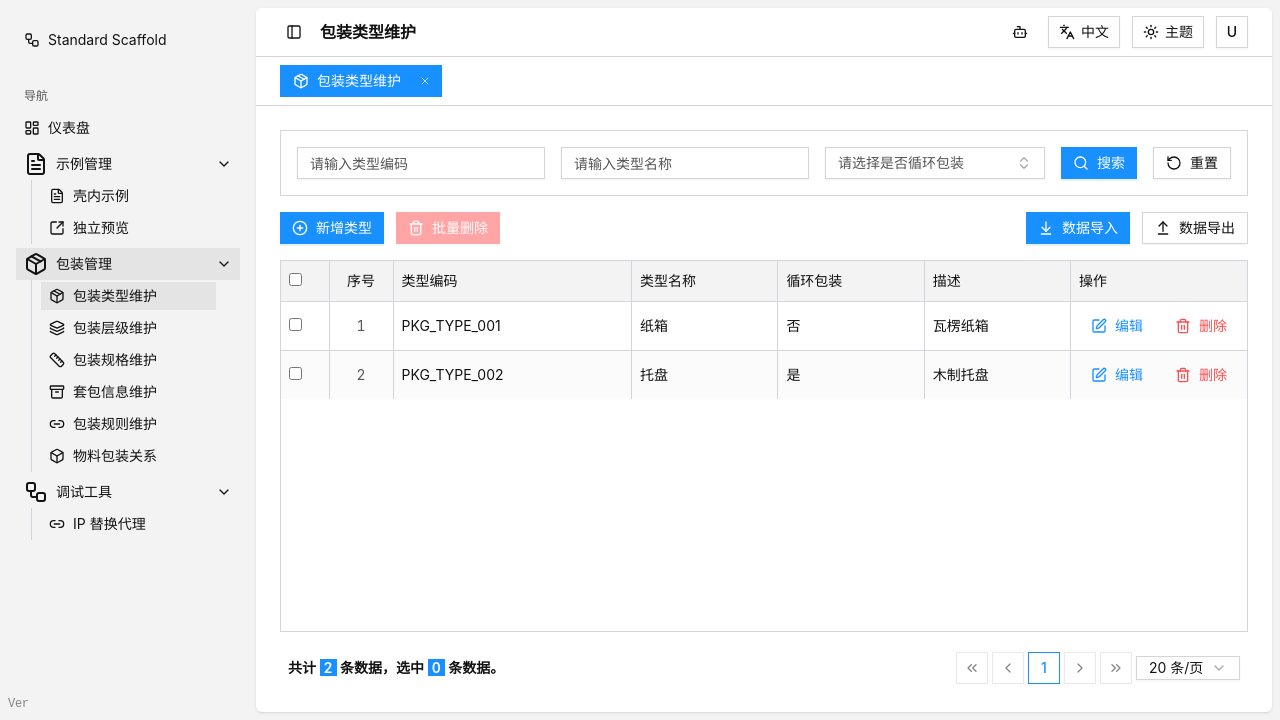
Test case: PackagingTypePage › deletes a packaging type and supports batch delete
Expected: the text "纸箱" is shown, [632, 301, 778, 350]
// Single delete: click delete button, confirm in AlertDialog
Click the button "删除" in the row of "PKG_TYPE_001" at (1201, 326), box [1163, 310, 1239, 342]
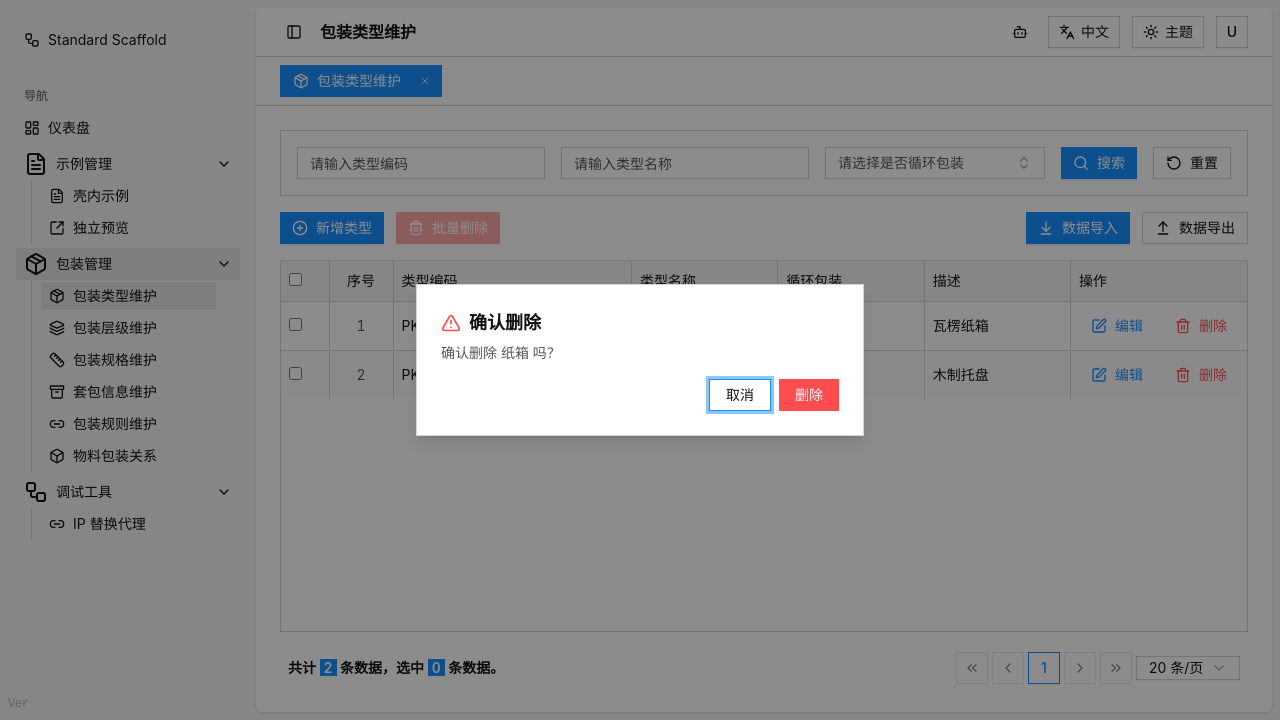
Click the button "删除" at (809, 395), box [779, 379, 839, 411]
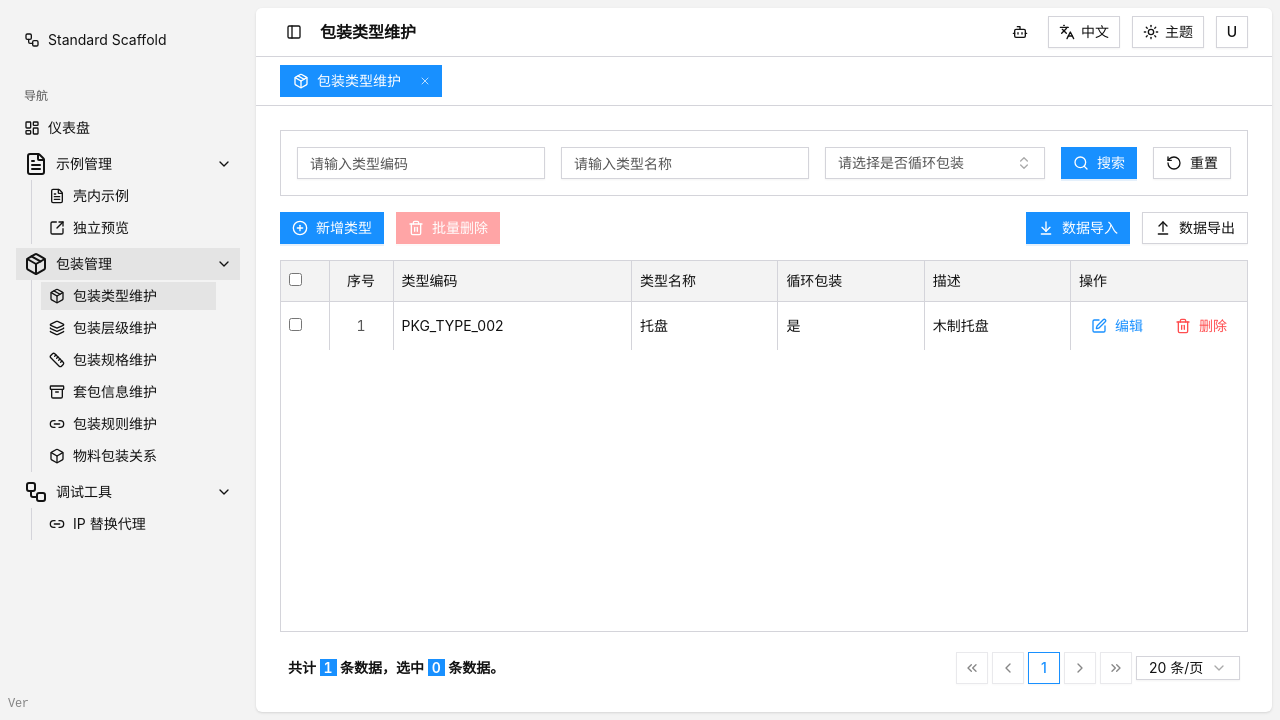
Expected: the text "托盘" is shown, [632, 301, 778, 350]
Expected: the text "纸箱" is gone
Click the checkbox named "选择 托盘" at (296, 324), box [289, 318, 302, 330]
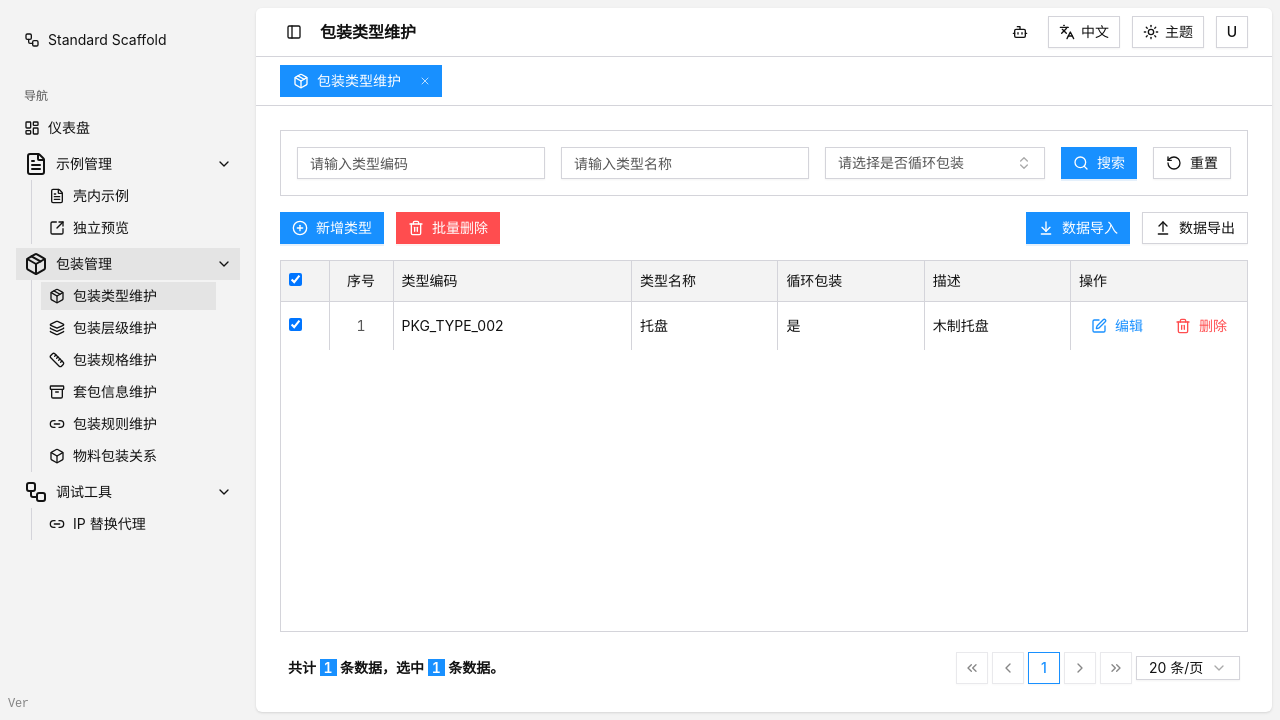
Click the button "批量删除" at (448, 228), box [396, 212, 500, 244]
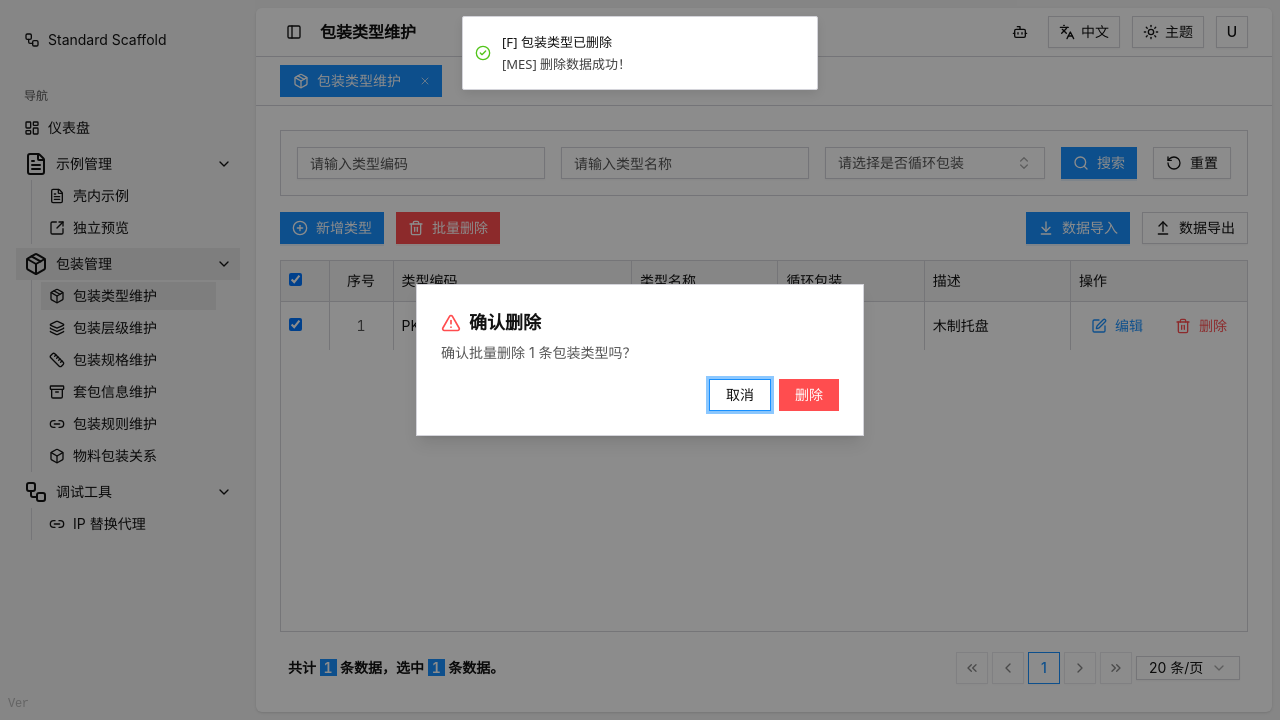
Click the button "删除" at (809, 395), box [779, 379, 839, 411]
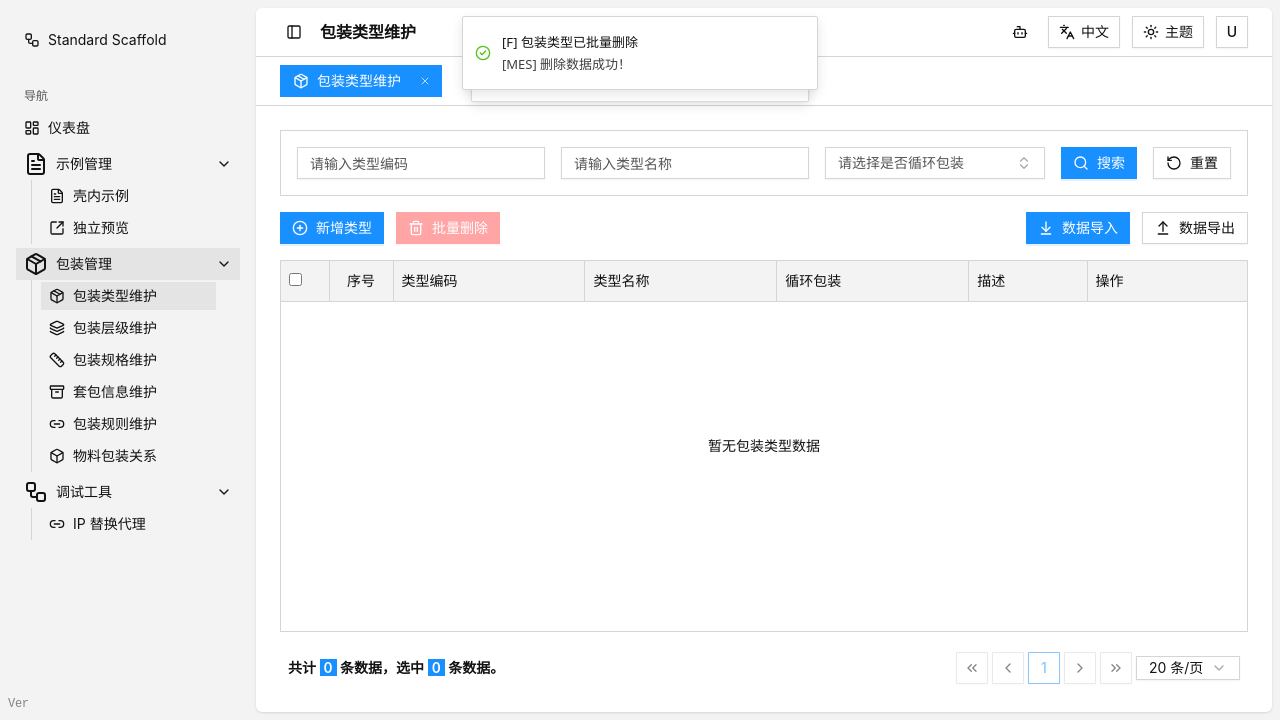
Expected: the text "暂无包装类型数据" is shown, [708, 436, 820, 456]
